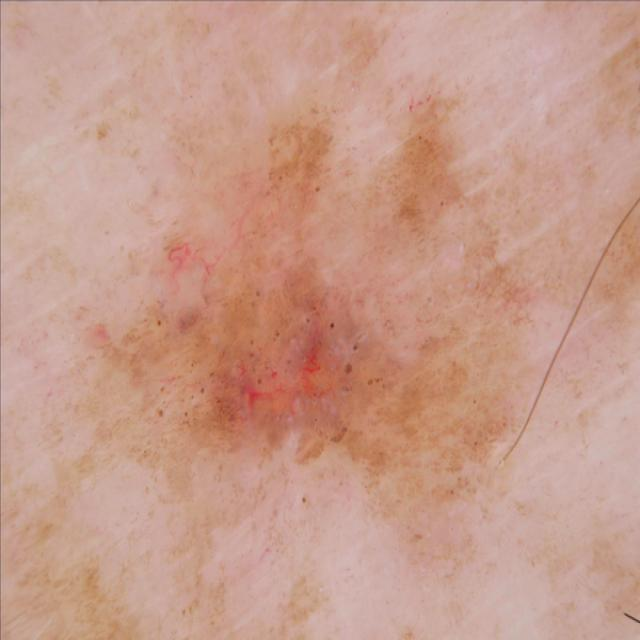Skin-Cancer Pigmented benign keratosis: (0, 0, 619, 582)
